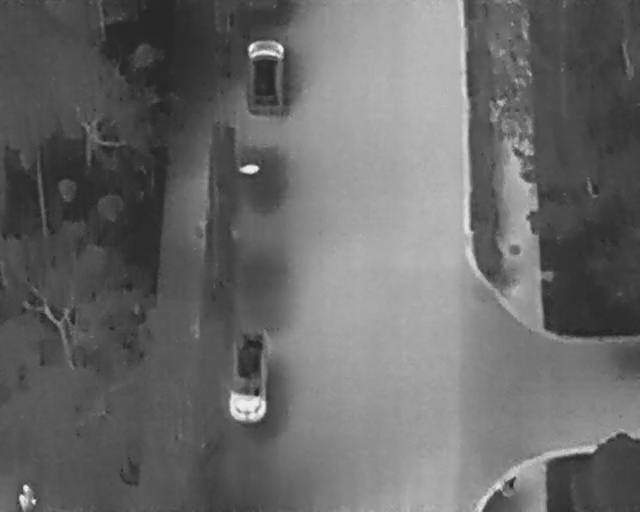Car: (225, 329, 270, 425), (245, 37, 288, 118)
Person: (18, 481, 39, 508), (17, 493, 29, 511)
